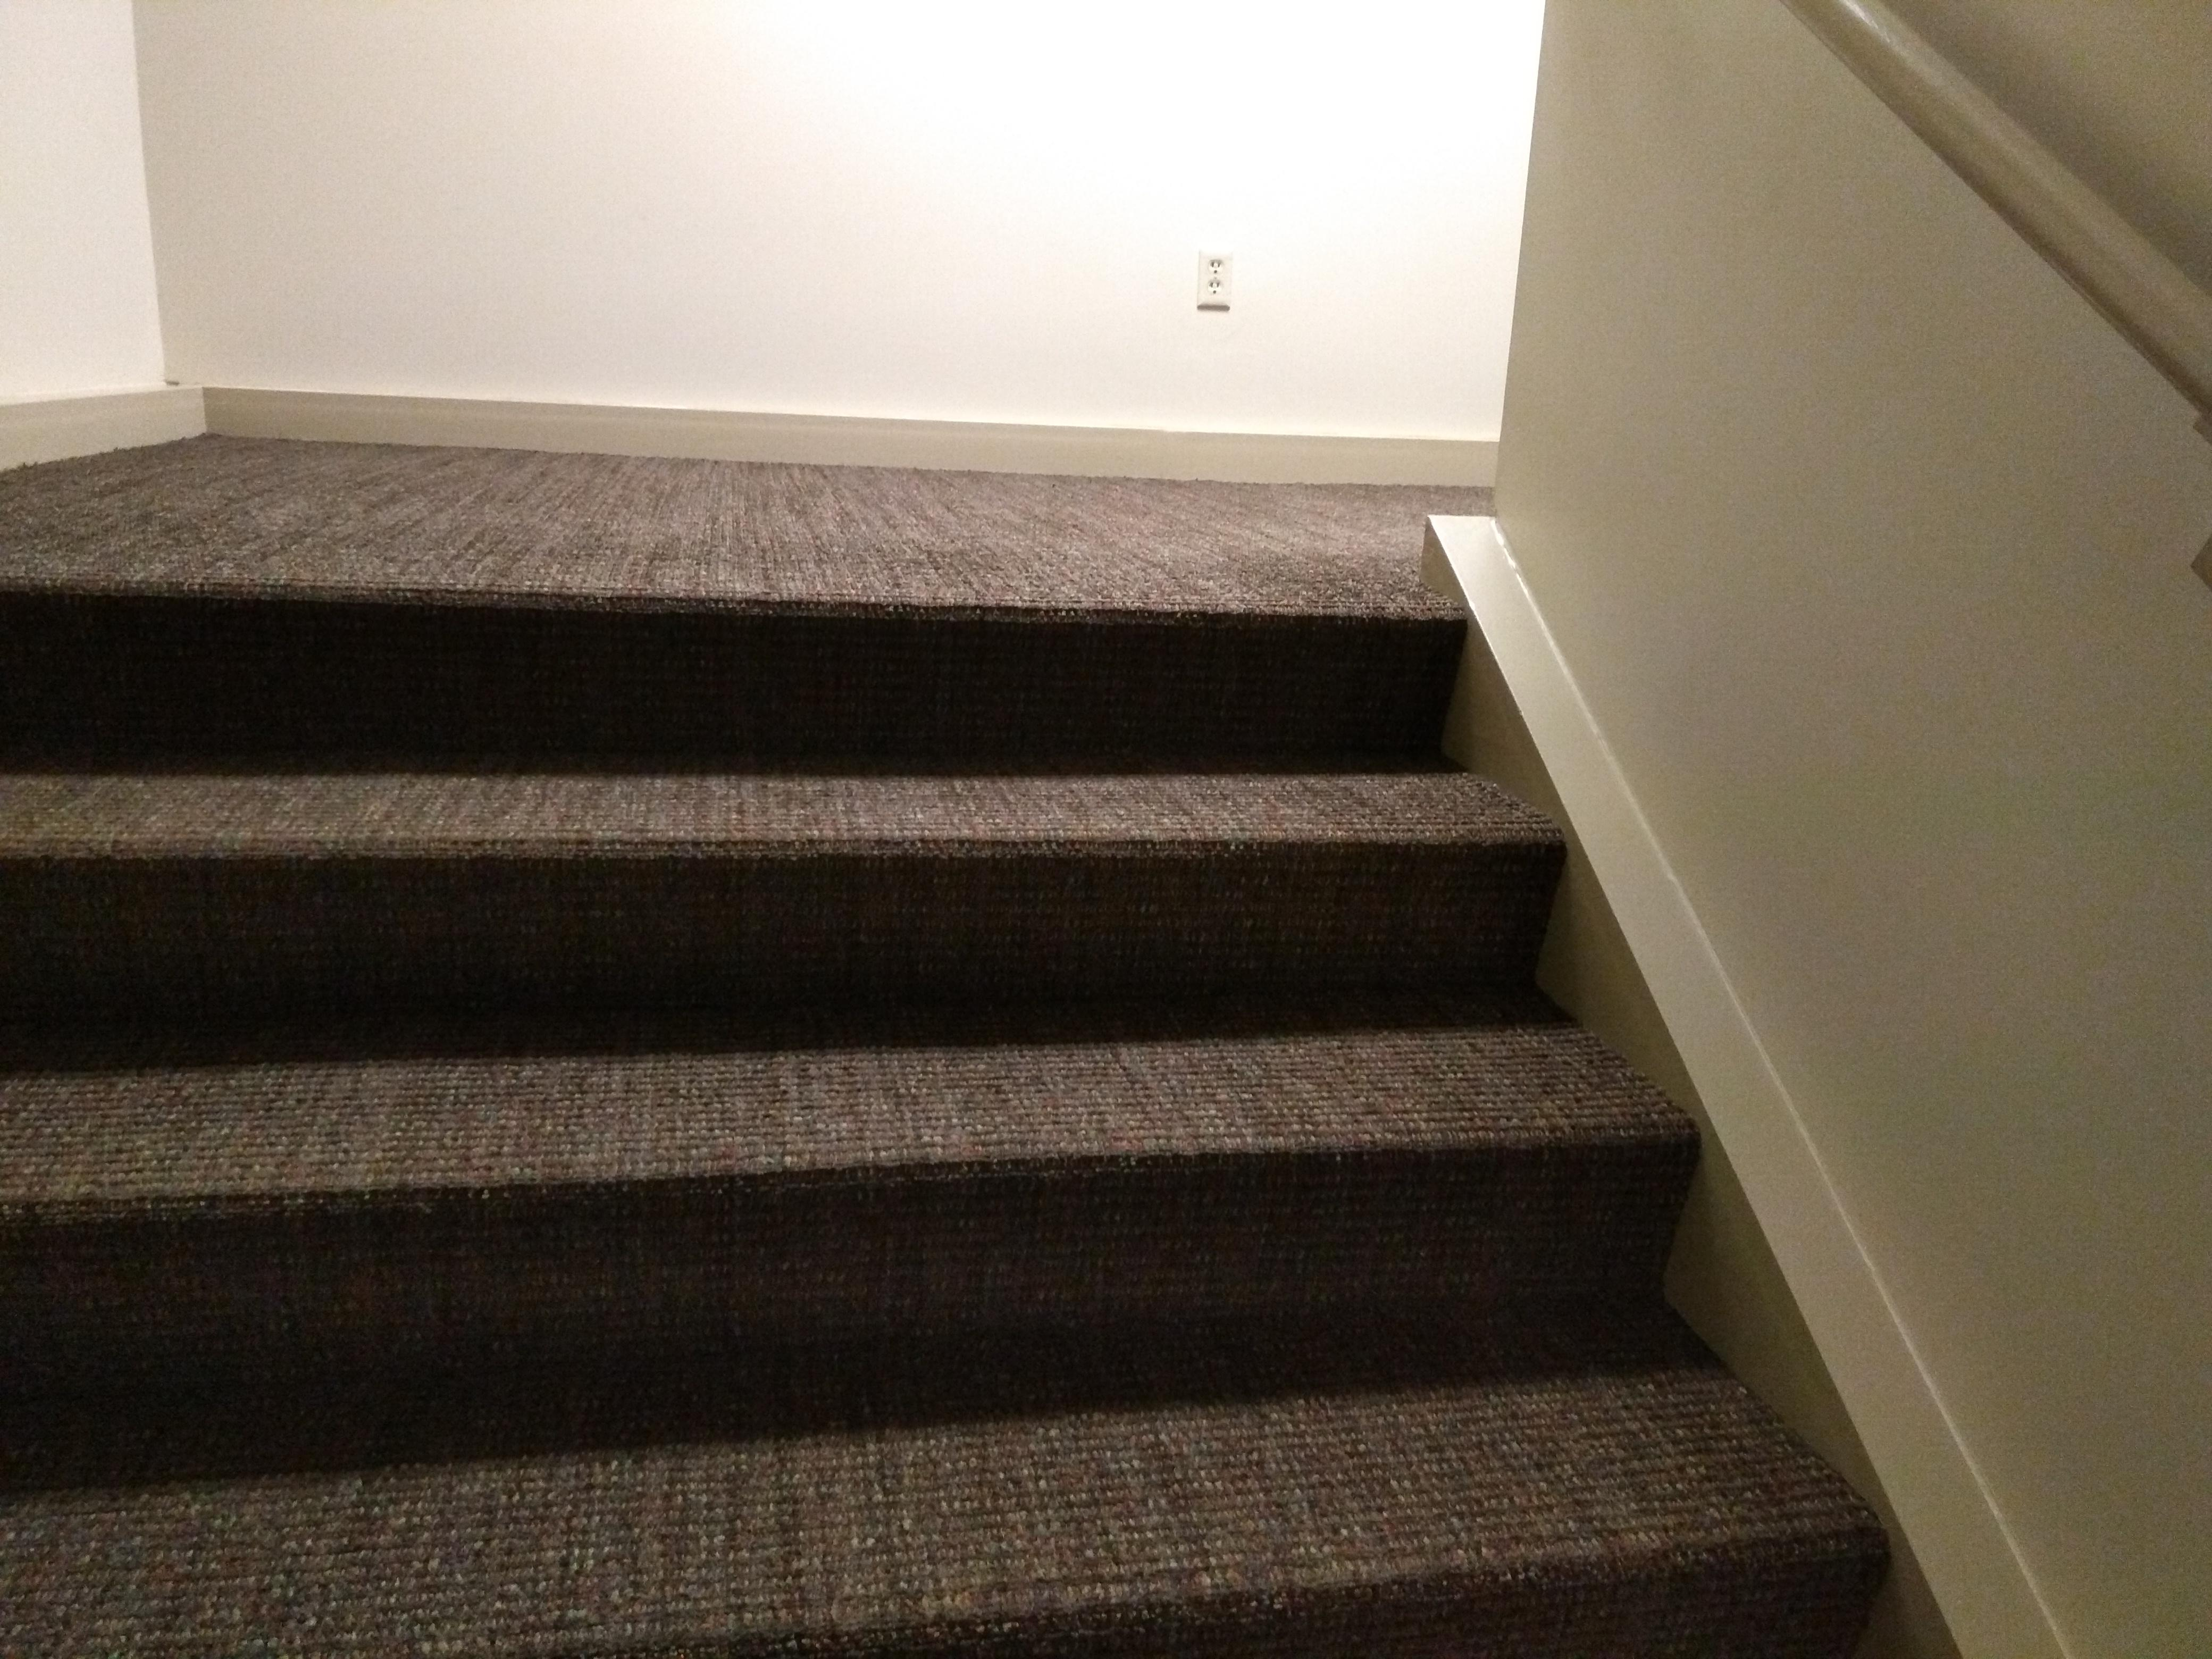stairs_up: (12, 559, 1817, 1643)
